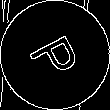P_NE: (24, 27, 86, 83)
